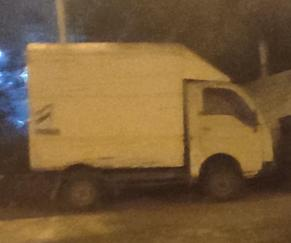Truck: (22, 37, 278, 207)
